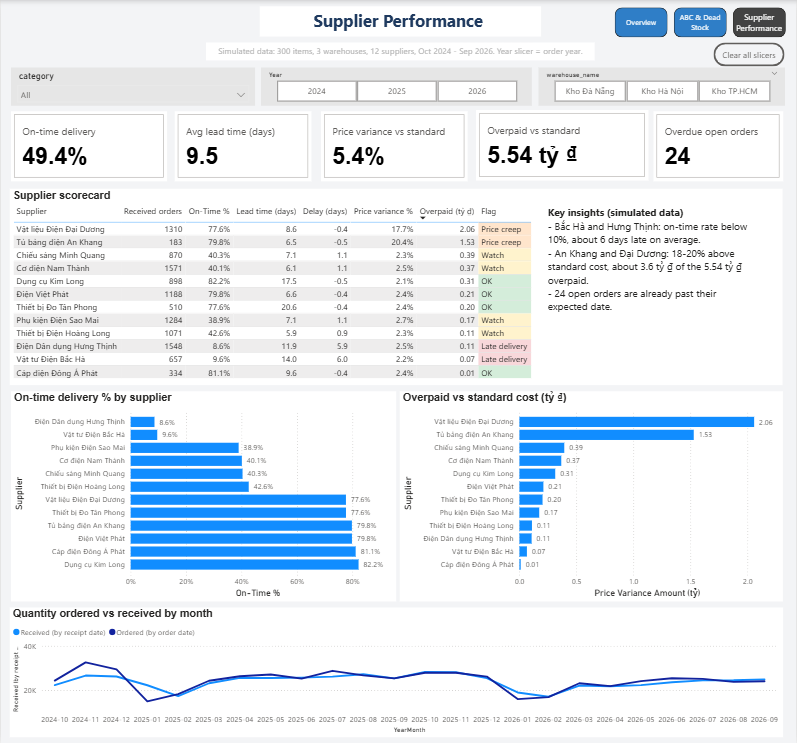

The dashboard page shown, as its layout file describes it:
{"tool":"powerbi","page":{"name":"Supplier Performance","canvas":[1280,1200],"ordinal":2},"visuals":[{"type":"textbox","box":[415.7,10,452.9,48.6],"z":0},{"type":"textbox","box":[330,68.6,625.7,28.6],"z":1000},{"type":"slicer","fields":{"Values":["Dim_Date.Year"]},"box":[418.6,108.6,435.7,61.4],"z":2000},{"type":"slicer","fields":{"Values":["Dim_Warehouse.warehouse_name"]},"box":[864.3,108.6,397.1,61.4],"z":3000},{"type":"slicer","fields":{"Values":["Dim_Item.category"]},"box":[15.7,108.6,392.9,61.4],"z":4000},{"type":"cardVisual","fields":{"Data":["_Measures.On-Time %"]},"box":[16.2,179.2,251.2,112.5],"z":5000},{"type":"cardVisual","fields":{"Data":["_Measures.Avg Lead Time (days)"]},"box":[280,179.2,220,112.5],"z":6000},{"type":"cardVisual","fields":{"Data":["_Measures.Purchase Price Variance %"]},"box":[515,179.2,236.2,112.5],"z":7000},{"type":"cardVisual","fields":{"Data":["_Measures.Price Variance Amount (Display)"]},"box":[763.8,177.9,277.5,113.8],"z":8000},{"type":"cardVisual","fields":{"Data":["_Measures.Overdue Open Lines"]},"box":[1051.2,179.2,208.8,112.5],"z":9000},{"type":"tableEx","title":"Supplier scorecard","fields":{"Values":["Dim_Supplier.Supplier Short","_Measures.Received Lines","_Measures.On-Time %","_Measures.Avg Lead Time (days)","_Measures.Avg Delay (days)","_Measures.Purchase Price Variance %","_Measures.Price Variance Amount (tỷ)","_Measures.Supplier Flag"]},"box":[14.3,302.9,1244.3,315.7],"z":10000},{"type":"textbox","box":[874.3,325.7,335.7,208.6],"z":11000},{"type":"clusteredBarChart","title":"On-time delivery % by supplier","fields":{"Y":["_Measures.On-Time %"],"Category":["Dim_Supplier.Supplier Short"]},"box":[16.2,630,620,338.8],"z":12000},{"type":"clusteredBarChart","title":"Overpaid vs standard cost (tỷ ₫)","fields":{"Y":["_Measures.Price Variance Amount (tỷ)"],"Category":["Dim_Supplier.Supplier Short"]},"box":[642.9,630,617.1,338.6],"z":13000},{"type":"lineChart","title":"Quantity ordered vs received by month","fields":{"Category":["Dim_Date.YearMonth"],"Y":["_Measures.Qty Received by Receipt Date","_Measures.Qty Ordered by Order Date"]},"box":[15,978.8,1245,208.8],"z":14000},{"type":"pageNavigator","box":[988.6,11.4,275.7,48.6],"z":14001},{"type":"actionButton","box":[1147.1,68.6,114.3,38.6],"z":14002}]}

Visuals, with their boxes in screenshot pixels (x1, y1, x2, y2), scaled from the page's 1280x1200 canvas onto the 797x743 screenshot:
textbox: <region>259, 6, 541, 36</region>
textbox: <region>205, 42, 595, 60</region>
slicer - Dim_Date.Year: <region>261, 67, 532, 105</region>
slicer - Dim_Warehouse.warehouse_name: <region>538, 67, 785, 105</region>
slicer - Dim_Item.category: <region>10, 67, 254, 105</region>
cardVisual - _Measures.On-Time %: <region>10, 111, 166, 181</region>
cardVisual - _Measures.Avg Lead Time (days): <region>174, 111, 311, 181</region>
cardVisual - _Measures.Purchase Price Variance %: <region>321, 111, 468, 181</region>
cardVisual - _Measures.Price Variance Amount (Display): <region>476, 110, 648, 181</region>
cardVisual - _Measures.Overdue Open Lines: <region>655, 111, 785, 181</region>
"Supplier scorecard" tableEx: <region>9, 188, 784, 383</region>
textbox: <region>544, 202, 753, 331</region>
"On-time delivery % by supplier" clusteredBarChart: <region>10, 390, 396, 600</region>
"Overpaid vs standard cost (tỷ ₫)" clusteredBarChart: <region>400, 390, 785, 600</region>
"Quantity ordered vs received by month" lineChart: <region>9, 606, 785, 735</region>
pageNavigator: <region>616, 7, 787, 37</region>
actionButton: <region>714, 42, 785, 66</region>
